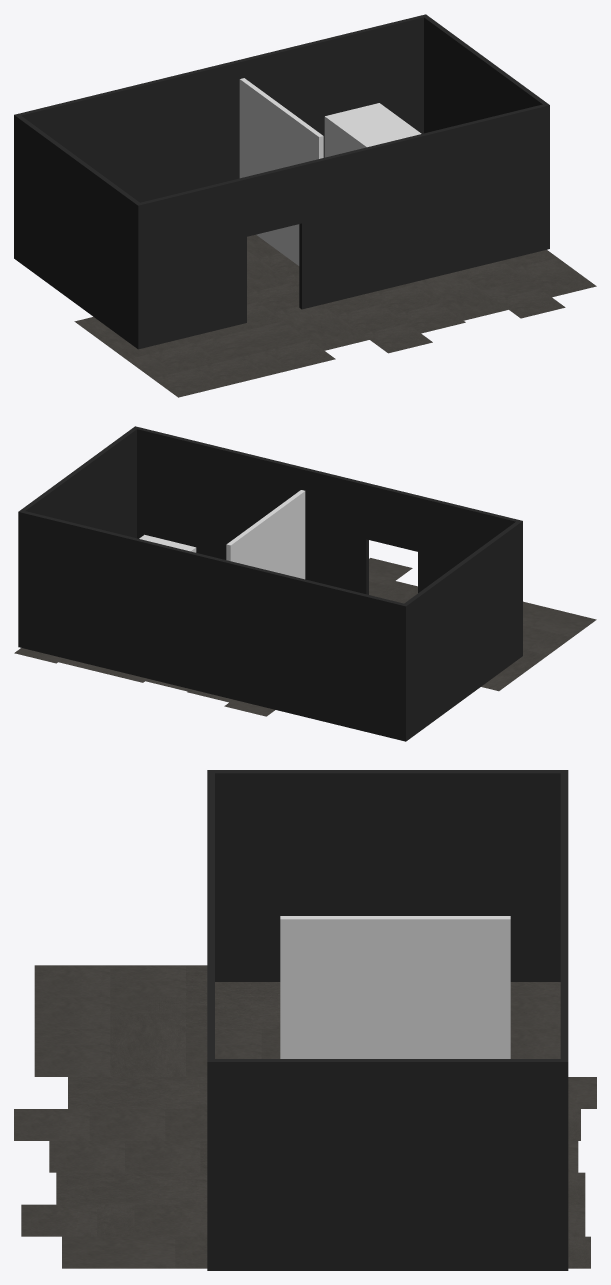
Rendered from fullSizeGallery.glb.
3 renders of one model, top to bottom at view 1: azimuth 30°, elevation 25°; view 2: azimuth 150°, elevation 25°; view 3: azimuth 270°, elevation 25°, orthographic. The views are drawn at different scales.
Parts seen in each view (by area): view 1: Plane, Plane.001, Plane.002, floor_texture.009, floor_texture.006, floor_texture.007, floor_texture.022, floor_texture.018, floor_texture.008, floor_texture.002, floor_texture.003, floor_texture.004 (+15 smaller); view 2: Plane, Plane.001, floor_texture.015, floor_texture.018, floor_texture.002, floor_texture.007, floor_texture.016, floor_texture.011; view 3: Plane, Plane.001, floor_texture.006, floor_texture.009, floor_texture.007, floor_texture.022, floor_texture.017, floor_texture.019, floor_texture.001, floor_texture.008, floor_texture.011, floor_texture.015 (+18 smaller).
Boxes of the visible parts, left/top/right/bottom form: Plane: left=14, top=14, right=549, bottom=349; Plane.001: left=239, top=78, right=323, bottom=265; Plane.002: left=324, top=103, right=421, bottom=157; floor_texture.009: left=194, top=321, right=309, bottom=361; floor_texture.006: left=412, top=271, right=508, bottom=320; floor_texture.007: left=273, top=304, right=369, bottom=350; floor_texture.022: left=513, top=258, right=596, bottom=297; floor_texture.018: left=74, top=317, right=170, bottom=359; floor_texture.008: left=265, top=340, right=335, bottom=369; floor_texture.002: left=362, top=323, right=432, bottom=353; floor_texture.003: left=395, top=303, right=465, bottom=333; floor_texture.004: left=369, top=284, right=439, bottom=314; Plane: left=18, top=426, right=522, bottom=741; Plane.001: left=226, top=490, right=305, bottom=579; floor_texture.015: left=530, top=609, right=596, bottom=637; floor_texture.018: left=481, top=649, right=547, bottom=691; floor_texture.002: left=369, top=558, right=412, bottom=585; floor_texture.007: left=375, top=581, right=417, bottom=603; floor_texture.016: left=527, top=632, right=571, bottom=655; floor_texture.011: left=523, top=601, right=553, bottom=626; Plane: left=207, top=770, right=568, bottom=1270; Plane.001: left=280, top=916, right=510, bottom=1058; floor_texture.006: left=56, top=1172, right=207, bottom=1204; floor_texture.009: left=110, top=1013, right=185, bottom=1076; floor_texture.007: left=68, top=1077, right=207, bottom=1108; floor_texture.022: left=62, top=1236, right=175, bottom=1268; floor_texture.017: left=148, top=997, right=280, bottom=1028; floor_texture.019: left=21, top=1204, right=96, bottom=1236; floor_texture.001: left=89, top=1109, right=165, bottom=1140; floor_texture.008: left=34, top=1045, right=110, bottom=1076; floor_texture.011: left=34, top=997, right=110, bottom=1028; floor_texture.015: left=34, top=965, right=110, bottom=996.
Bounding box in the file's own units: 9.57 × 3.05 × 7.71.
Materials: 60 (60 with a texture image).
